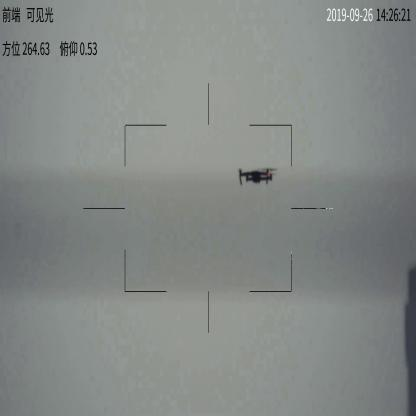uav: (232, 164, 280, 188)
